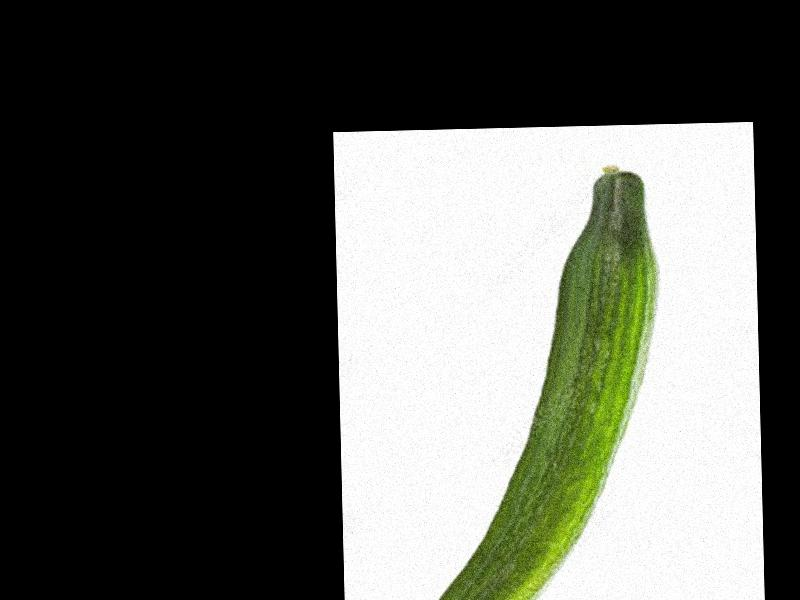Cucumber: (418, 163, 667, 600)
